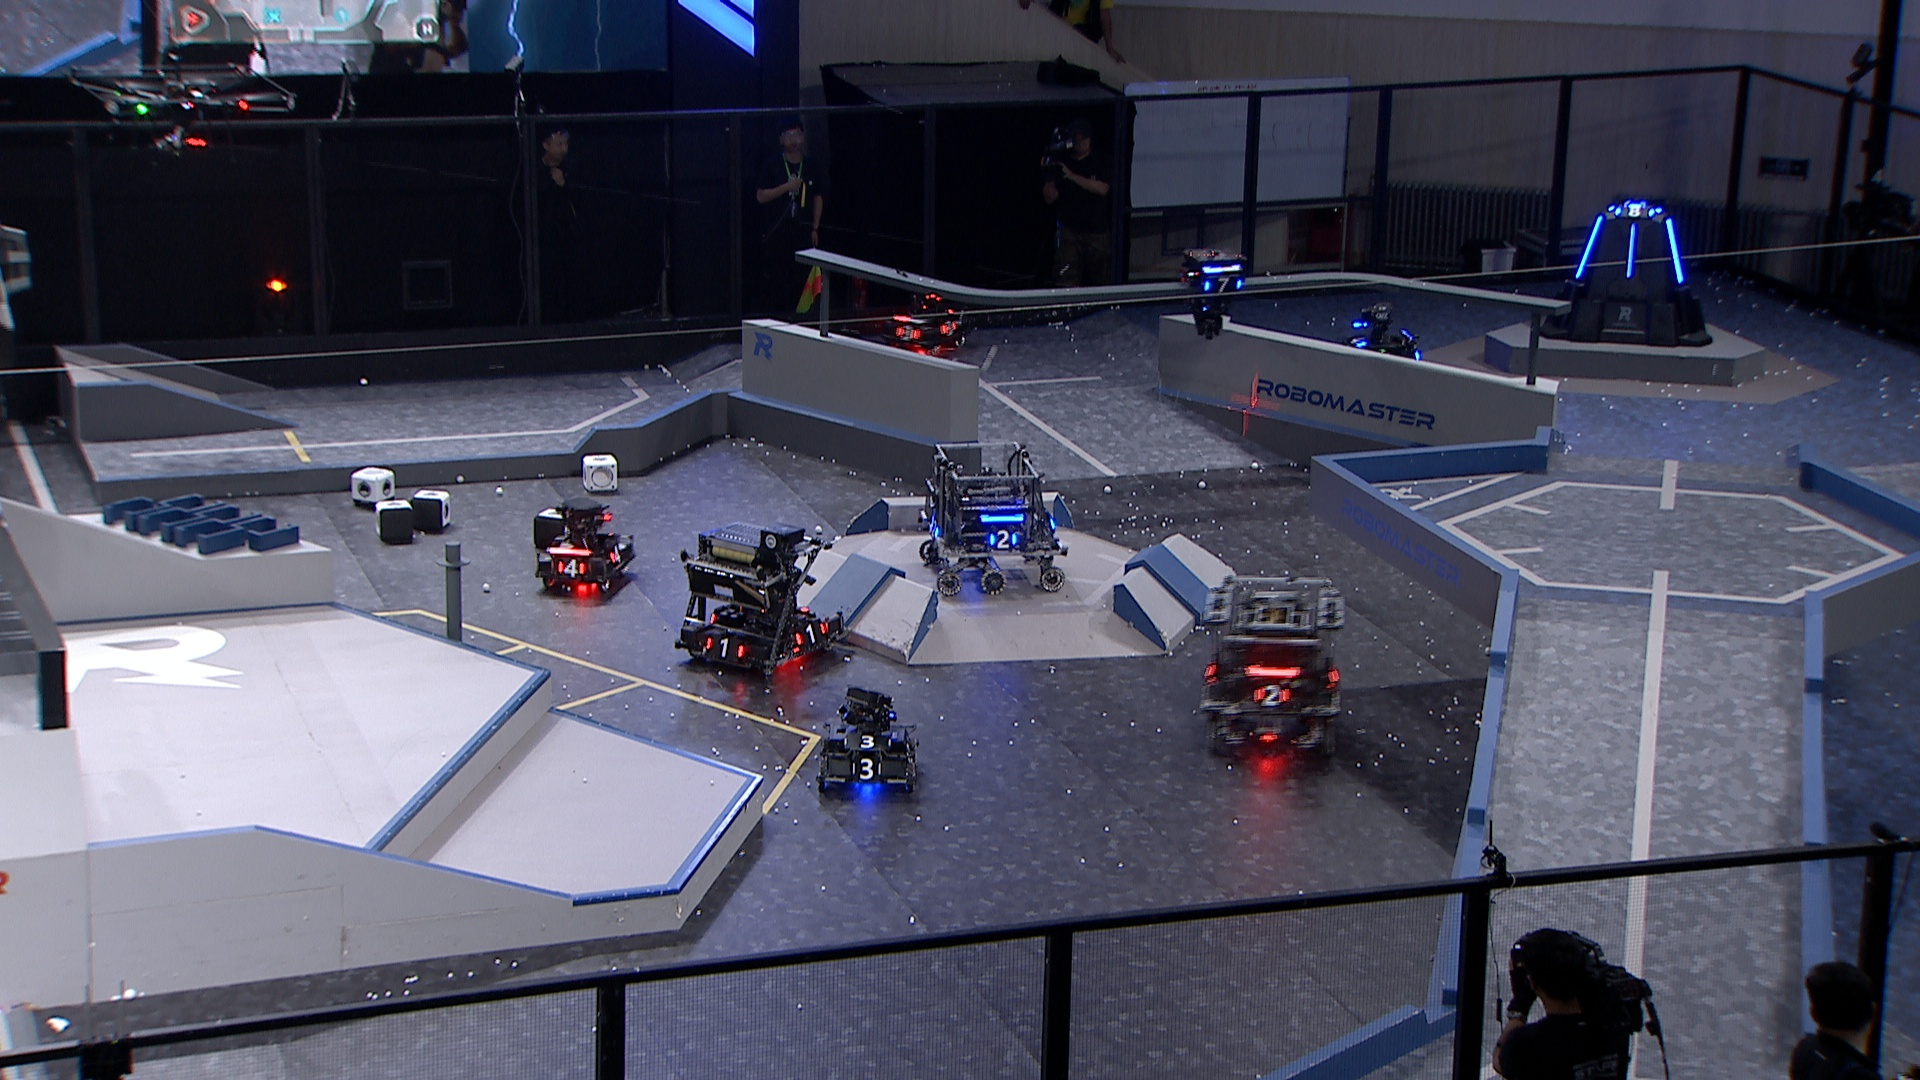armor: (1572, 214, 1607, 282), (1662, 215, 1684, 287), (1253, 680, 1291, 711), (793, 618, 829, 647), (840, 731, 894, 750), (702, 636, 745, 659), (849, 756, 884, 783), (1610, 200, 1658, 220), (1622, 222, 1638, 281), (1201, 276, 1247, 295), (988, 527, 1021, 551), (555, 556, 585, 580), (891, 320, 923, 343), (924, 516, 942, 542), (938, 319, 961, 338), (1346, 334, 1370, 349), (609, 545, 624, 566)
base: (1534, 196, 1717, 349)
car: (675, 513, 851, 679), (1200, 571, 1346, 756), (915, 436, 1068, 603), (812, 687, 918, 796), (534, 498, 638, 595), (885, 287, 972, 363), (1338, 299, 1428, 372)
watcher: (1179, 244, 1249, 338)
